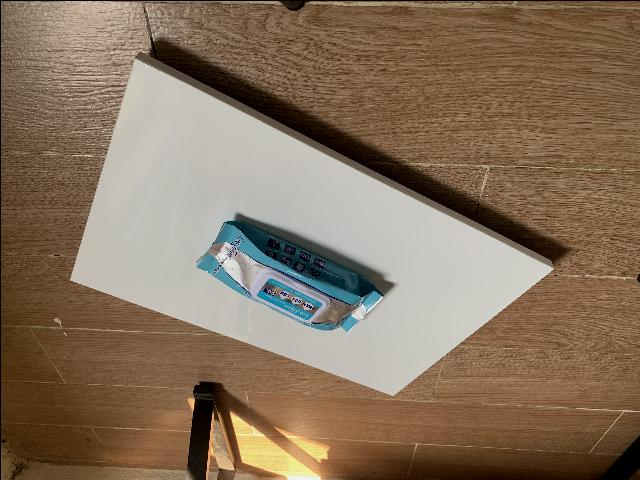Let-green_alcohol_wipes: (193, 219, 383, 332)
